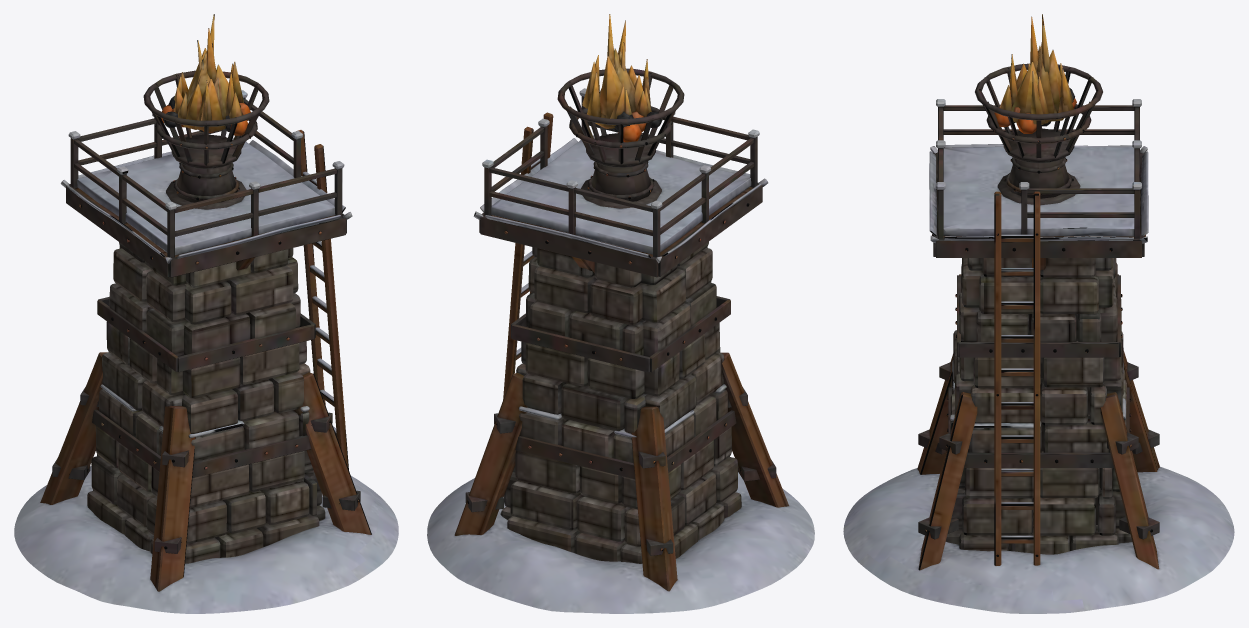
Rendered from signal.glb.
3 views of the same model, side by side, from view 1: azimuth 30°, elevation 25°; view 2: azimuth 150°, elevation 25°; view 3: azimuth 270°, elevation 25° (orthographic).
Visible parts, largest first — view 1: model; view 2: model; view 3: model.
Part boxes in pixels (<box>): model: <box>14,14,398,613</box>; model: <box>427,14,814,613</box>; model: <box>843,14,1234,613</box>.
Bounding box in the file's own units: 3.98 × 5.95 × 3.98.
Materials: 2 (2 with a texture image).
